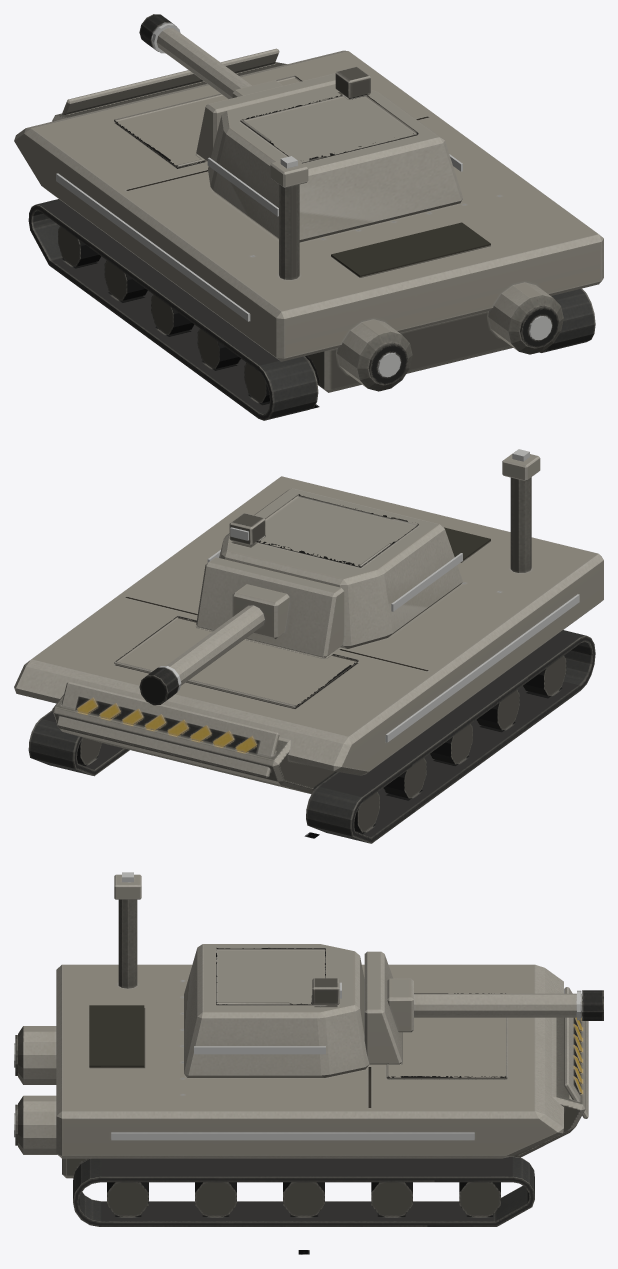
File: ord_tideguard.fbx
3 views of the same model, one above another, from view 1: azimuth 30°, elevation 25°; view 2: azimuth 150°, elevation 25°; view 3: azimuth 270°, elevation 25° (orthographic). The views are drawn at different scales.
Visible parts, largest first — view 1: base_bar, turret_bar, trackL_bar, base_glow_running_bar, trackR_bar, turret_glow_running_bar; view 2: base_bar, turret_bar, trackL_bar, trackR_bar, base_glow_running_bar, turret_glow_running_bar; view 3: base_bar, turret_bar, trackR_bar, base_glow_running_bar, turret_glow_running_bar.
Boxes of the visible parts, <box> form: base_bar: <box>14,48,603,392</box>; turret_bar: <box>139,14,462,242</box>; trackL_bar: <box>28,199,318,420</box>; base_glow_running_bar: <box>56,156,551,376</box>; trackR_bar: <box>539,288,595,352</box>; turret_glow_running_bar: <box>207,154,462,216</box>; base_bar: <box>14,451,603,794</box>; turret_bar: <box>139,488,462,705</box>; trackL_bar: <box>306,630,595,843</box>; trackR_bar: <box>28,710,129,776</box>; base_glow_running_bar: <box>385,449,579,742</box>; turret_glow_running_bar: <box>207,527,462,611</box>; base_bar: <box>15,874,588,1178</box>; turret_bar: <box>184,944,603,1077</box>; trackR_bar: <box>73,1156,534,1226</box>; base_glow_running_bar: <box>14,872,474,1140</box>; turret_glow_running_bar: <box>194,982,341,1054</box>.
Size of the model in its own units: 658 by 650 by 1072.
Materials: 2 (2 with a texture image).
